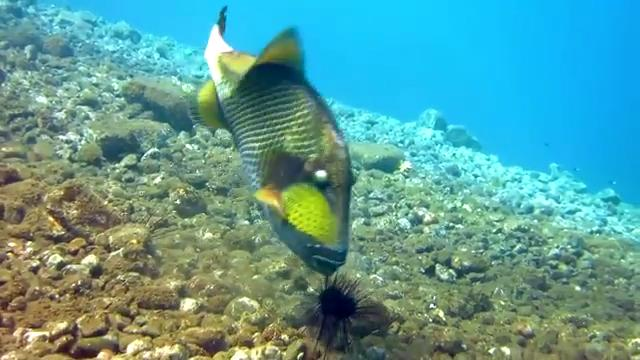urchin: (294, 265, 379, 357)
